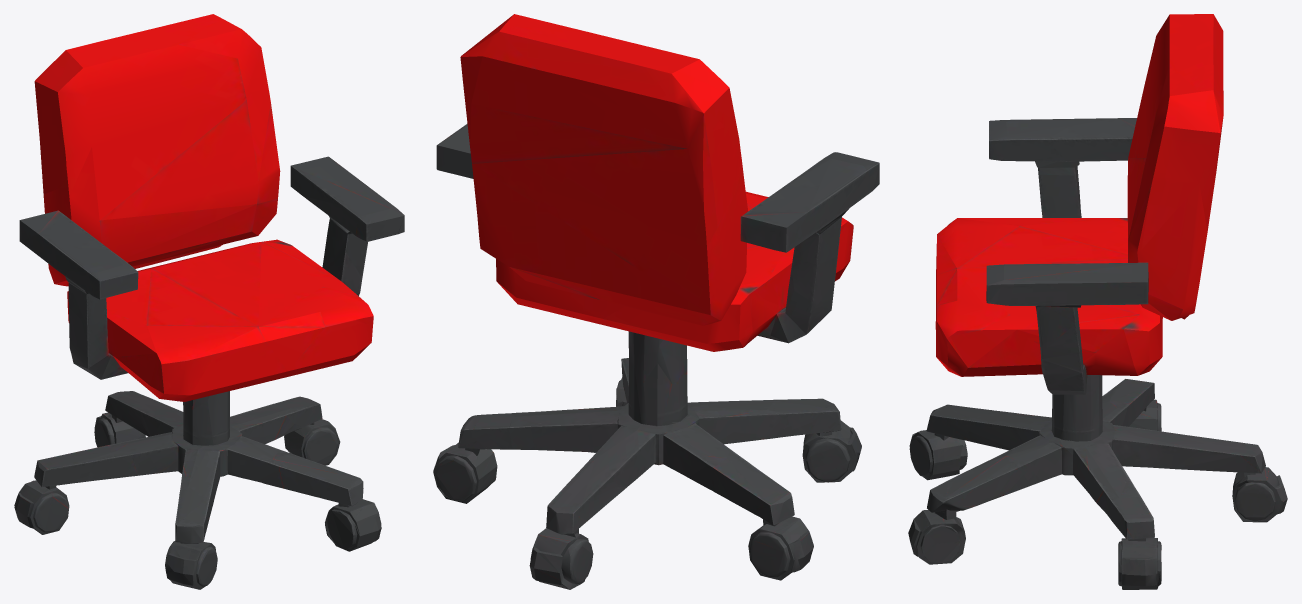
File: chair.glb
3 renders of one model, left to right at view 1: azimuth 30°, elevation 25°; view 2: azimuth 150°, elevation 25°; view 3: azimuth 270°, elevation 25°, orthographic. The views are drawn at different scales.
Size of the model in its own units: 1.43 by 1.9 by 1.41.
1 material, 1 textured.
